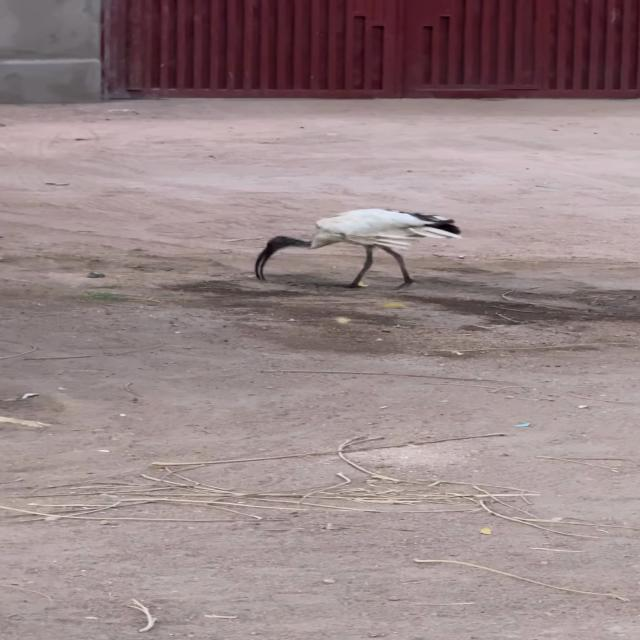Birds-Ibis: (250, 204, 467, 291)
